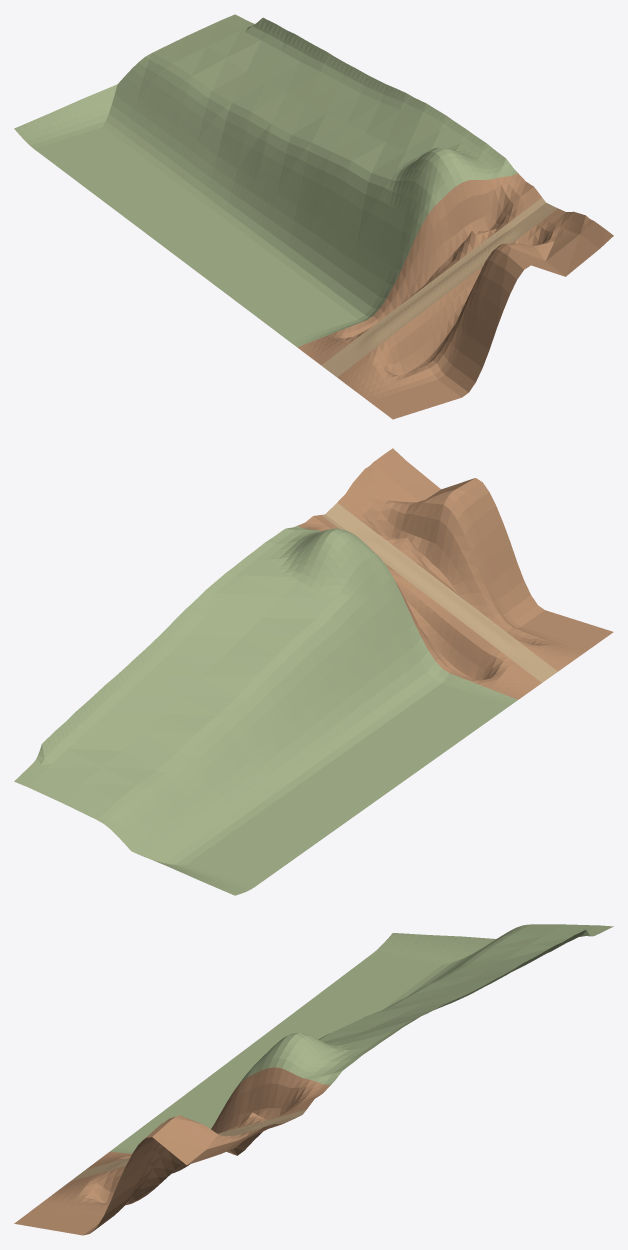
File: phase3f-inner.glb
3 renders of one model, top to bottom at view 1: azimuth 30°, elevation 25°; view 2: azimuth 150°, elevation 25°; view 3: azimuth 330°, elevation 25°, orthographic.
Visible parts, largest first — view 1: ic-bridge.surface.grass, ic-lookout.surface.grass, ic-bridge.surface.earth, ic-koguchi.surface.earth, ic-bridge.surface.path, ic-koguchi.surface.path, ic-lookout.surface.earth; view 2: ic-lookout.surface.grass, ic-bridge.surface.grass, ic-bridge.surface.earth, ic-koguchi.surface.earth, ic-bridge.surface.path, ic-koguchi.surface.path; view 3: ic-bridge.surface.grass, ic-lookout.surface.grass, ic-bridge.surface.earth, ic-koguchi.surface.earth, ic-lookout.surface.earth, ic-koguchi.surface.path.
Boxes of the visible parts, x1,y1,x2,y2 form: ic-bridge.surface.grass: [14, 76, 407, 347]; ic-lookout.surface.grass: [125, 14, 517, 255]; ic-bridge.surface.earth: [297, 214, 613, 419]; ic-koguchi.surface.earth: [425, 177, 581, 295]; ic-bridge.surface.path: [321, 271, 460, 377]; ic-koguchi.surface.path: [446, 197, 557, 282]; ic-lookout.surface.earth: [408, 173, 521, 264]; ic-lookout.surface.grass: [14, 526, 407, 843]; ic-bridge.surface.grass: [125, 608, 517, 895]; ic-bridge.surface.earth: [361, 448, 613, 699]; ic-koguchi.surface.earth: [301, 474, 457, 605]; ic-bridge.surface.path: [418, 576, 557, 682]; ic-koguchi.surface.path: [321, 503, 433, 588]; ic-bridge.surface.grass: [110, 933, 500, 1153]; ic-lookout.surface.grass: [236, 924, 613, 1087]; ic-bridge.surface.earth: [14, 1104, 266, 1235]; ic-koguchi.surface.earth: [181, 1083, 326, 1164]; ic-lookout.surface.earth: [217, 1067, 330, 1121]; ic-koguchi.surface.path: [217, 1109, 306, 1135].
Size of the model in its own units: 32 by 20.23 by 95.
